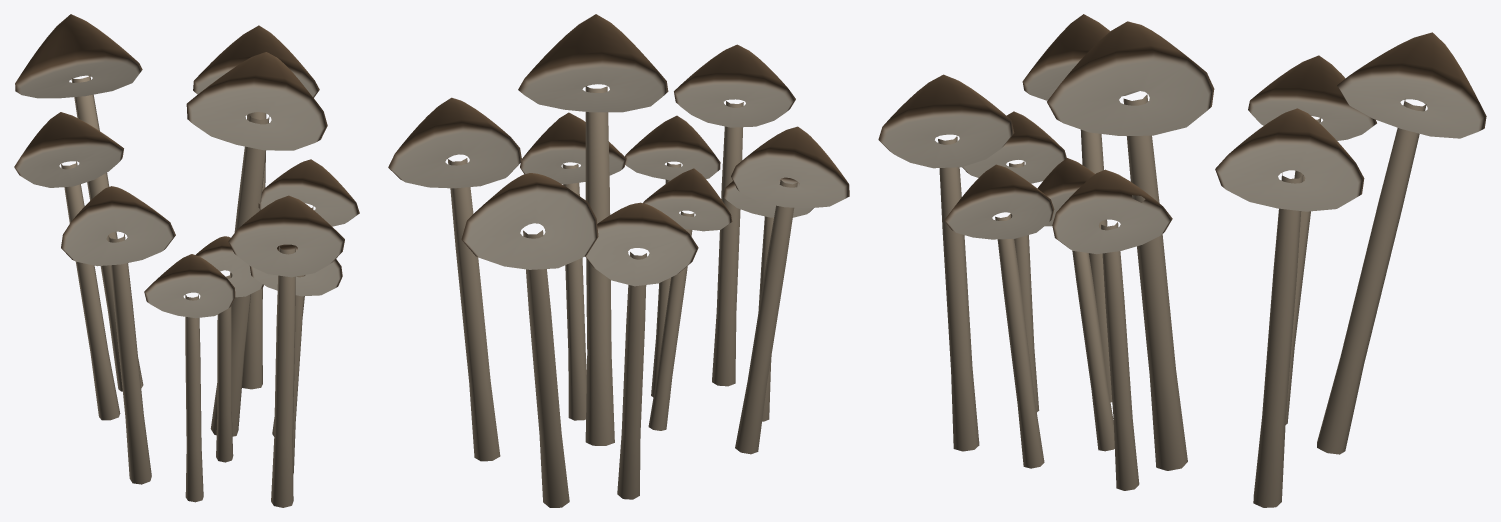
File: mushroom-mycena-a.lod0.glb
3 views of the same model, side by side, from view 1: azimuth 30°, elevation 25°; view 2: azimuth 150°, elevation 25°; view 3: azimuth 270°, elevation 25° (orthographic). The views are drawn at different scales.
Visible parts, largest first — view 1: mushroom-mycena-a.lod0; view 2: mushroom-mycena-a.lod0; view 3: mushroom-mycena-a.lod0.
Boxes of the visible parts, <box> form: mushroom-mycena-a.lod0: <box>14,14,359,507</box>; mushroom-mycena-a.lod0: <box>388,14,849,507</box>; mushroom-mycena-a.lod0: <box>878,14,1486,507</box>.
Size of the model in its own units: 0.0642 by 0.0721 by 0.0868.
